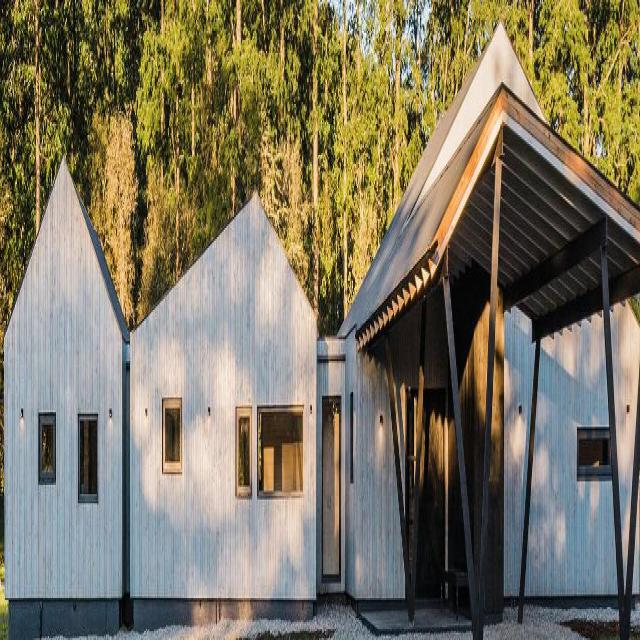door: (321, 396, 343, 585)
window: (258, 407, 305, 498), (77, 409, 99, 503), (576, 423, 611, 482), (235, 406, 252, 498), (162, 404, 181, 472), (38, 415, 55, 482)
